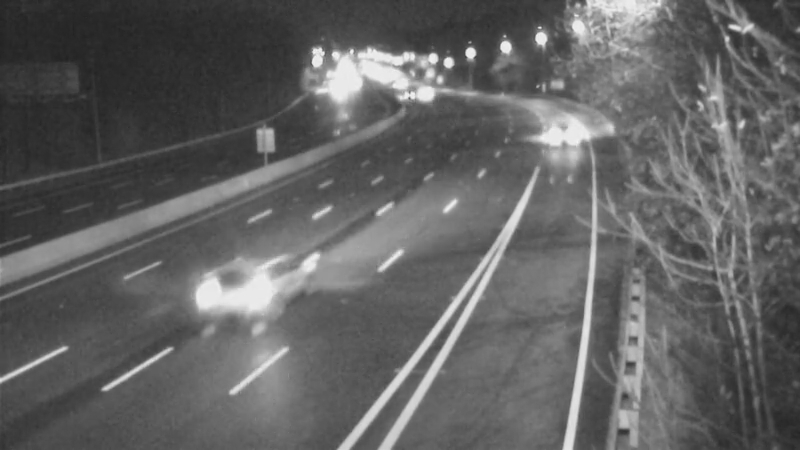vehicle: (181, 258, 261, 338), (401, 66, 451, 116), (538, 112, 588, 162)
